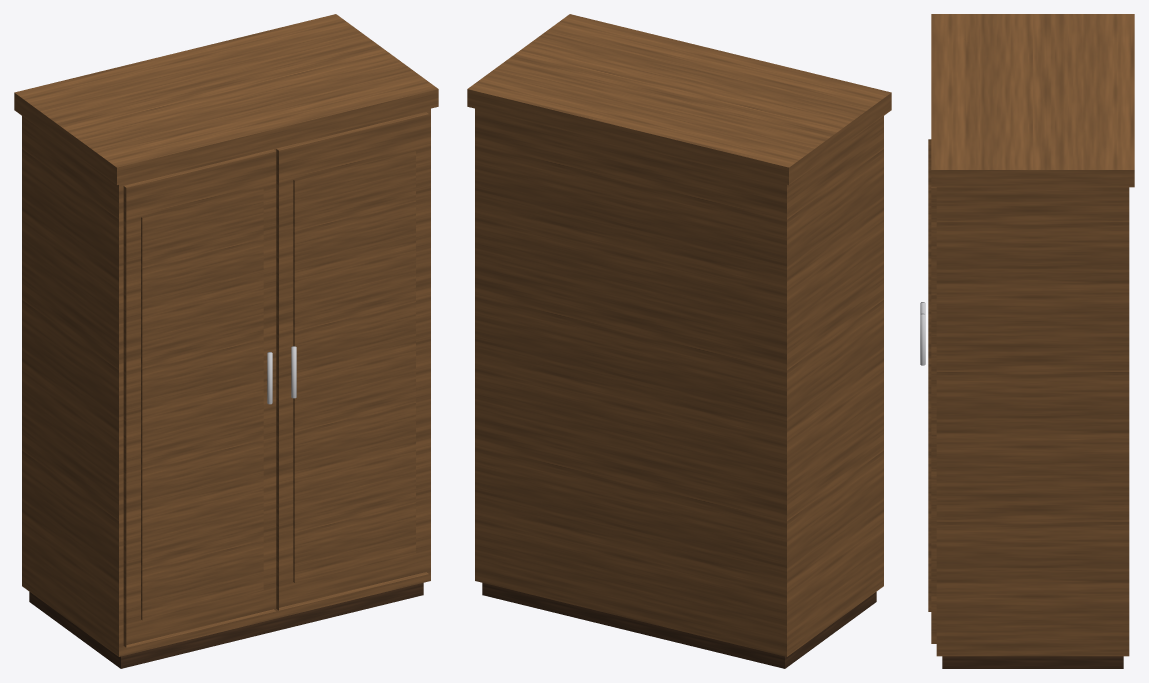
The model's file is wardrobe.glb.
3 views of the same model, side by side, from view 1: azimuth 30°, elevation 25°; view 2: azimuth 150°, elevation 25°; view 3: azimuth 270°, elevation 25° (orthographic).
Visible parts, largest first — view 1: Wardrobe; view 2: Wardrobe; view 3: Wardrobe.
Part boxes in pixels (<box>): Wardrobe: <box>14,14,438,668</box>; Wardrobe: <box>467,14,891,668</box>; Wardrobe: <box>920,14,1134,668</box>.
Size of the model in its own units: 1.34 by 2.02 by 0.78.
3 materials, 2 textured.
